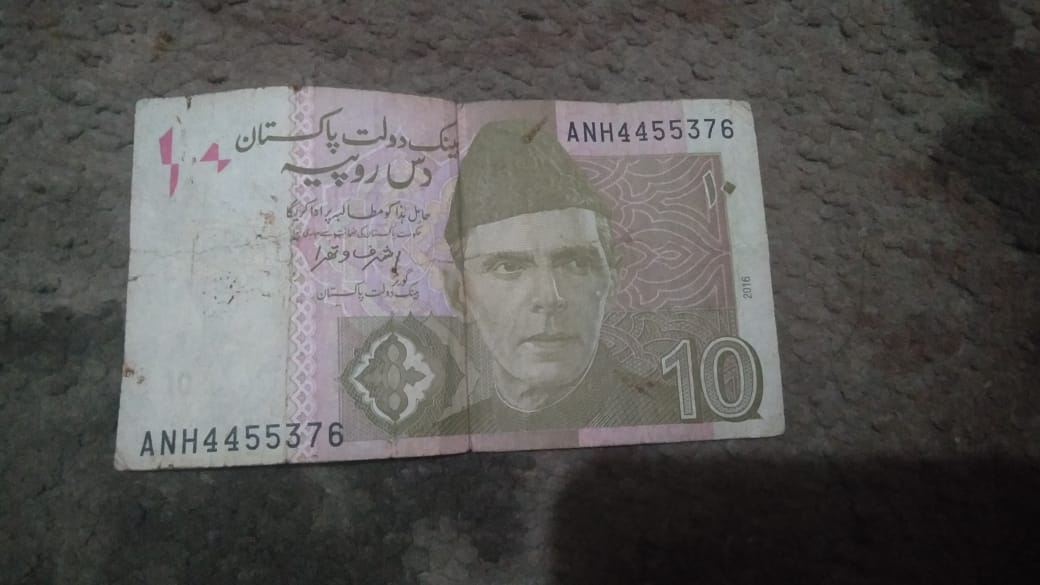10 rupee: (121, 82, 793, 470)
